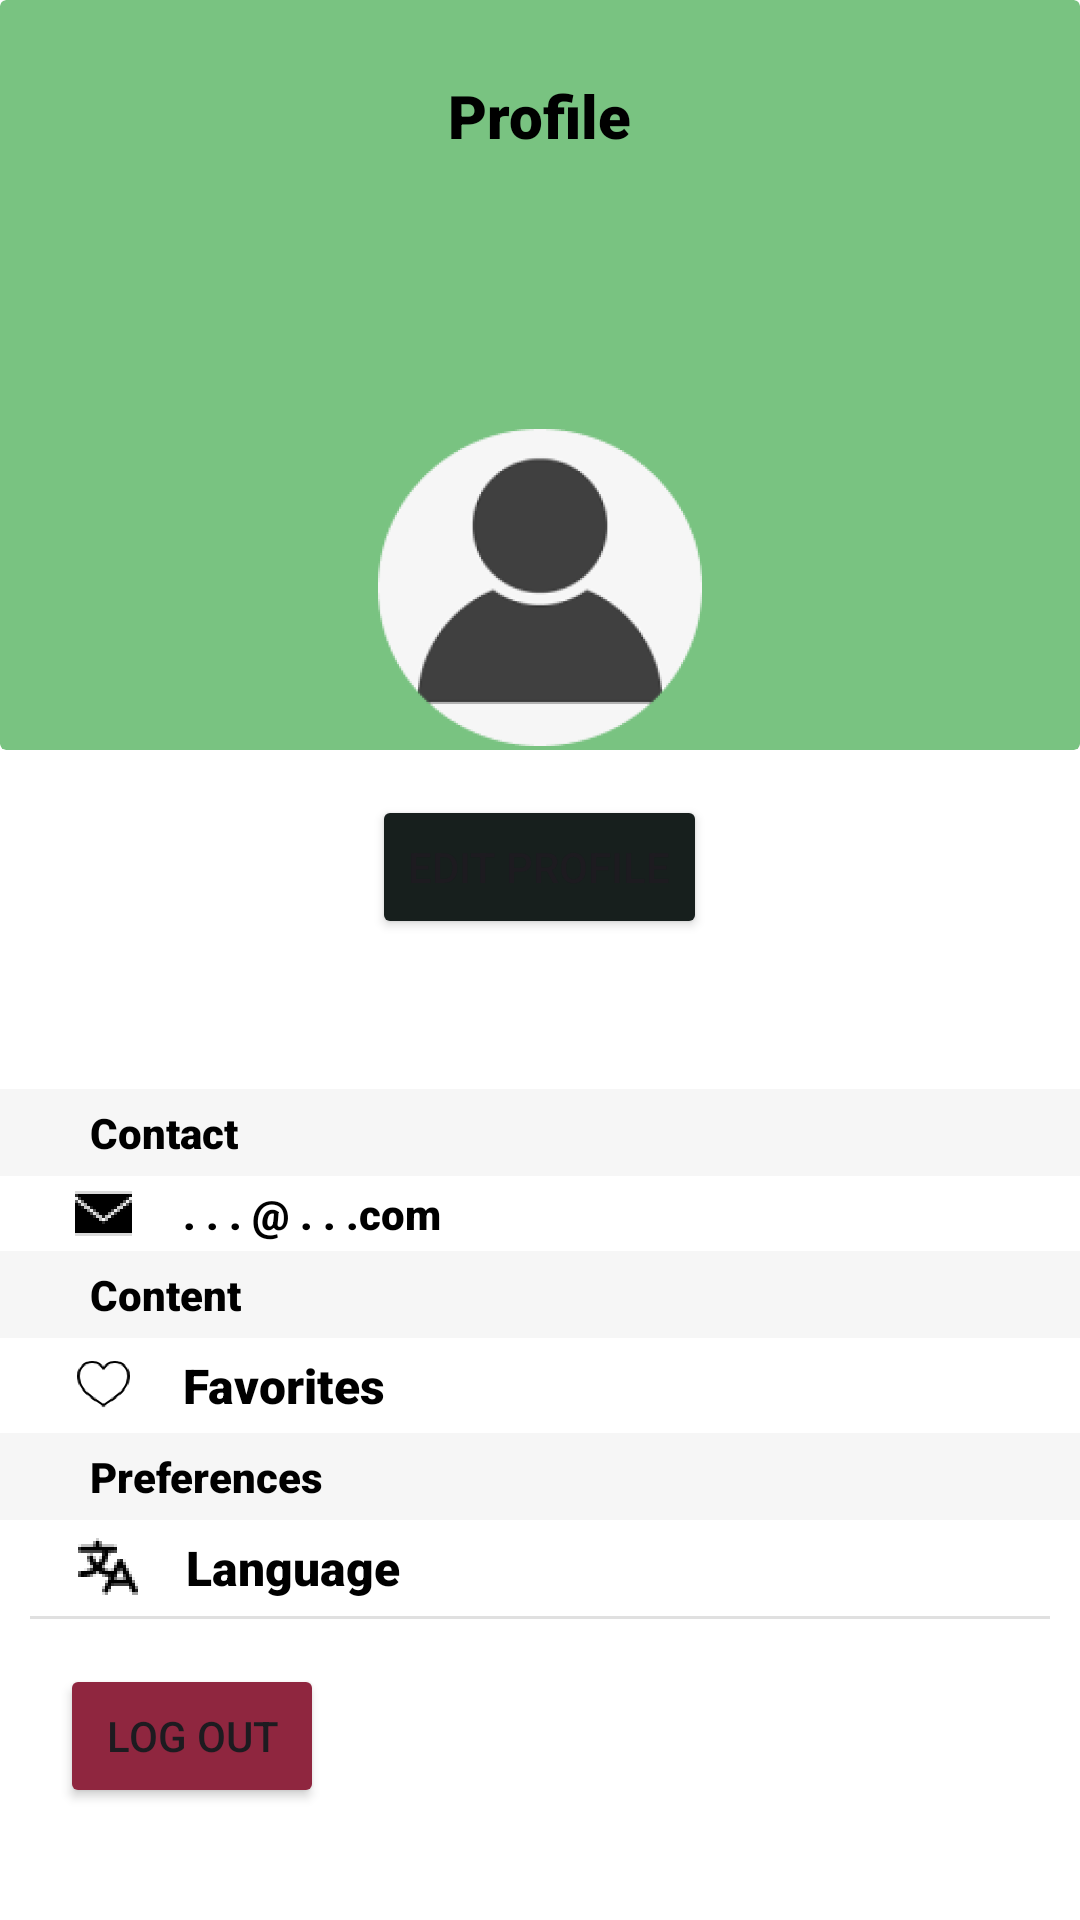

Icon bounding boxes for this 1080 x 1920 phone screenshot, format (x1, y1, x2, y2):
translate: (78, 1538, 138, 1595)
user profile: (378, 429, 702, 746)
